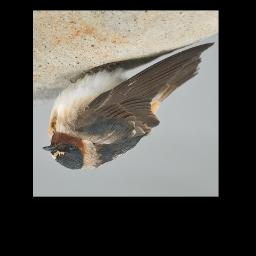Swallow: (42, 41, 216, 170)
